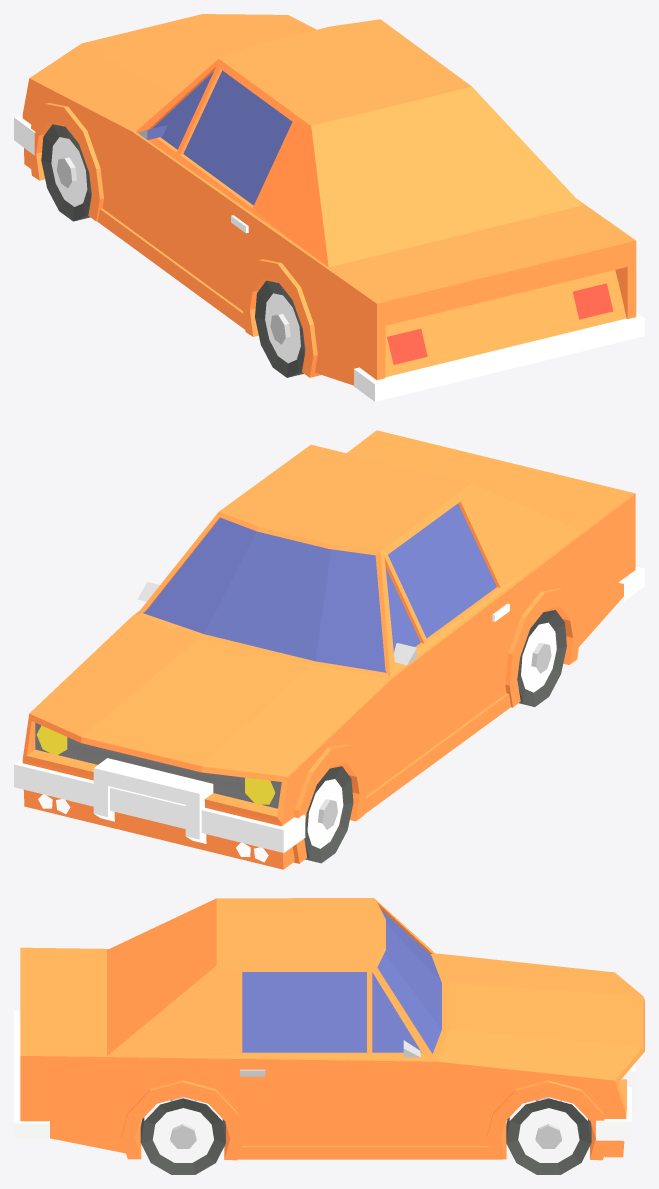
The model's file is transport_sport.008.glb.
The picture shows the model from 3 angles, top to bottom: view 1: azimuth 30°, elevation 25°; view 2: azimuth 150°, elevation 25°; view 3: azimuth 270°, elevation 25°; orthographic projection. The views are drawn at different scales.
Visible parts, largest first — view 1: transport_sport.008(Clone); view 2: transport_sport.008(Clone); view 3: transport_sport.008(Clone).
Boxes of the visible parts, x1,y1,x2,y2 form: transport_sport.008(Clone): [14, 14, 644, 401]; transport_sport.008(Clone): [14, 430, 644, 869]; transport_sport.008(Clone): [14, 898, 644, 1174].
Size of the model in its own units: 1.63 by 1.27 by 3.85.
1 material, 1 textured.
